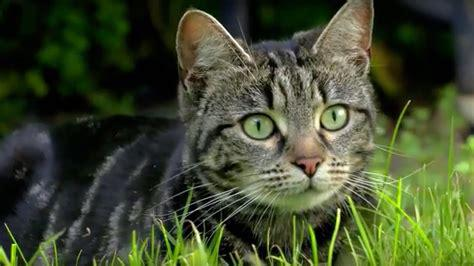cat: (1, 1, 374, 256)
